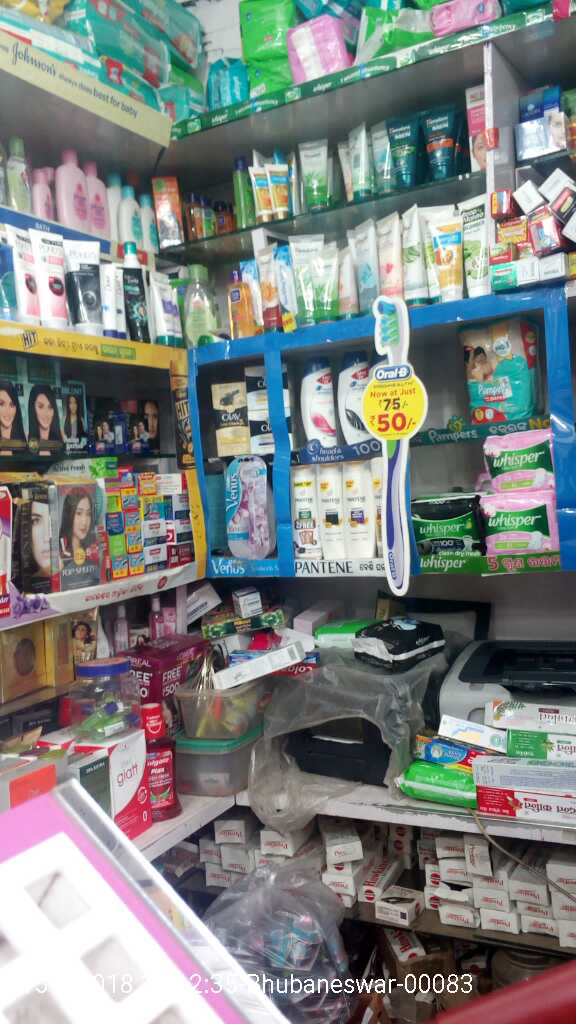venus: (229, 454, 272, 557)
